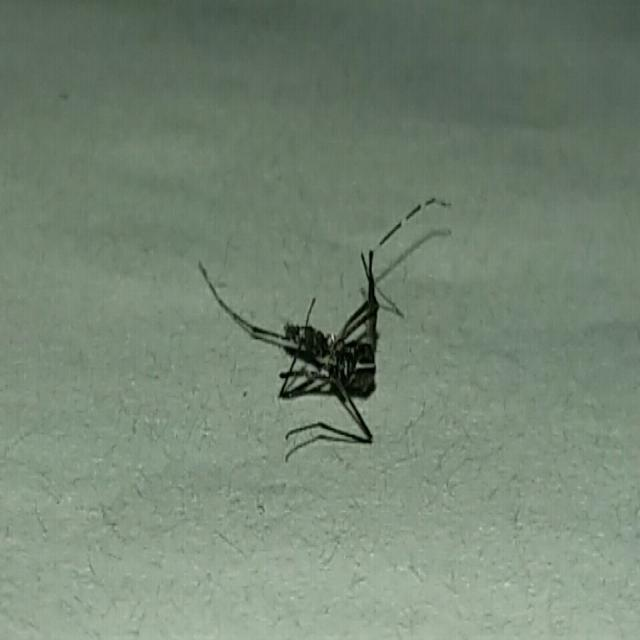albopictus: (196, 210, 413, 479)
